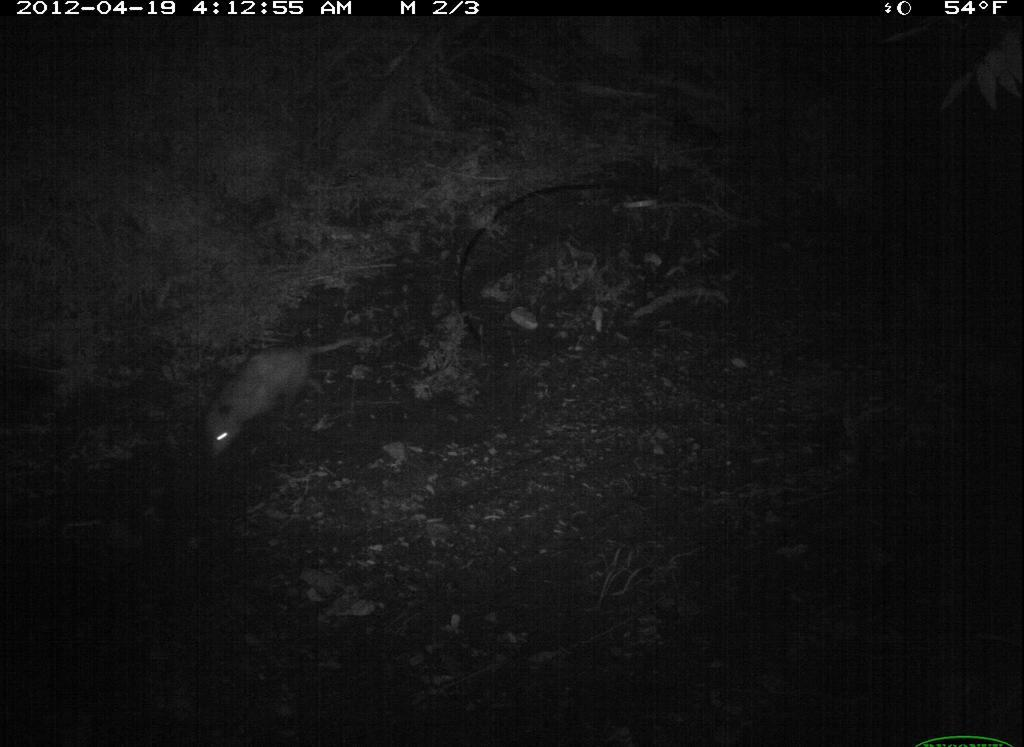opossum: (186, 310, 387, 473)
